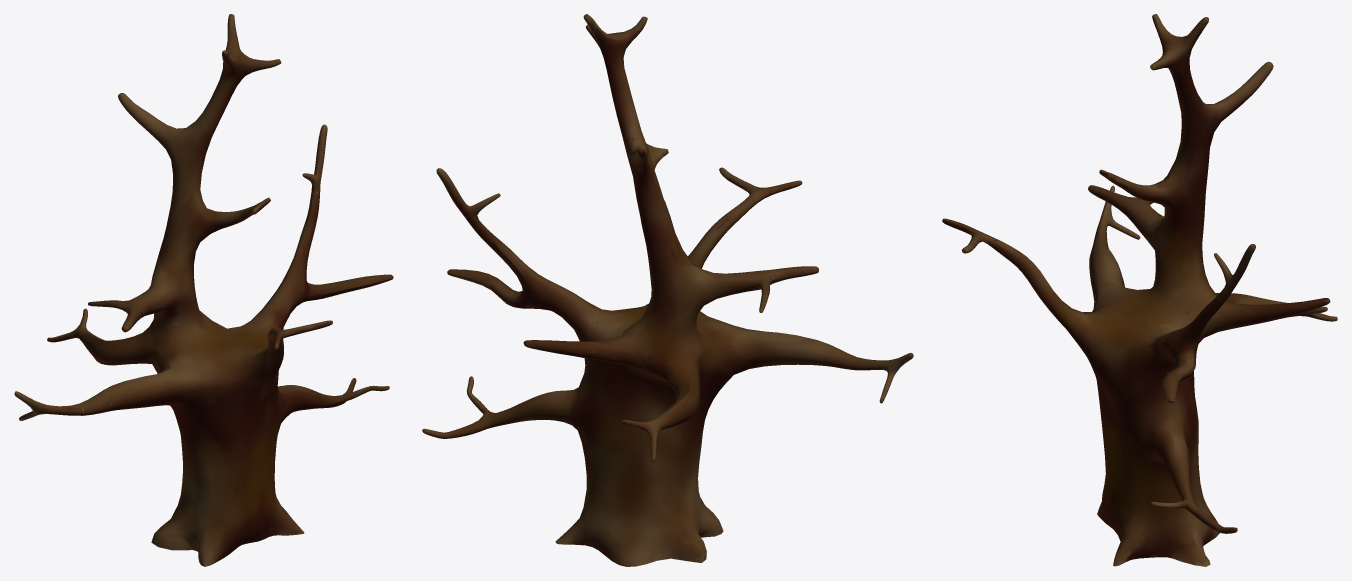
The picture shows the model from 3 angles, left to right: view 1: azimuth 30°, elevation 25°; view 2: azimuth 150°, elevation 25°; view 3: azimuth 270°, elevation 25°; orthographic projection. The views are drawn at different scales.
Visible parts, largest first — view 1: mqo_mesh; view 2: mqo_mesh; view 3: mqo_mesh.
Boxes of the visible parts, x1=… form: mqo_mesh: x1=14, y1=14, x2=393, y2=566; mqo_mesh: x1=422, y1=14, x2=913, y2=566; mqo_mesh: x1=942, y1=14, x2=1337, y2=566.
Bounding box in the file's own units: 84.04 × 98.68 × 66.
